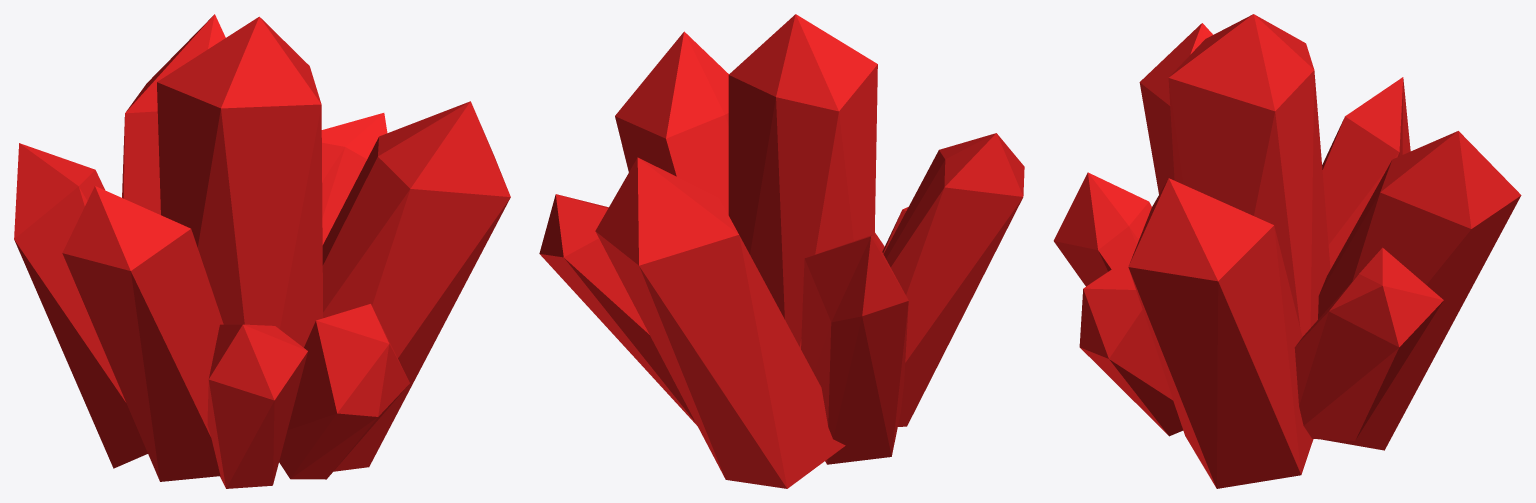
The model's file is red_crystal_block.obj.
3 renders of one model, left to right at view 1: azimuth 30°, elevation 25°; view 2: azimuth 150°, elevation 25°; view 3: azimuth 270°, elevation 25°, orthographic. The views are drawn at different scales.
Visible parts, largest first — view 1: Icosphere.036_Icosphere.037; view 2: Icosphere.036_Icosphere.037; view 3: Icosphere.036_Icosphere.037.
Part boxes in pixels (box(x1,y1,x2,y2)): Icosphere.036_Icosphere.037: box(14, 14, 510, 488); Icosphere.036_Icosphere.037: box(539, 14, 1024, 488); Icosphere.036_Icosphere.037: box(1053, 14, 1521, 488).
Bounding box in the file's own units: 1.01 × 1.01 × 0.9894.
